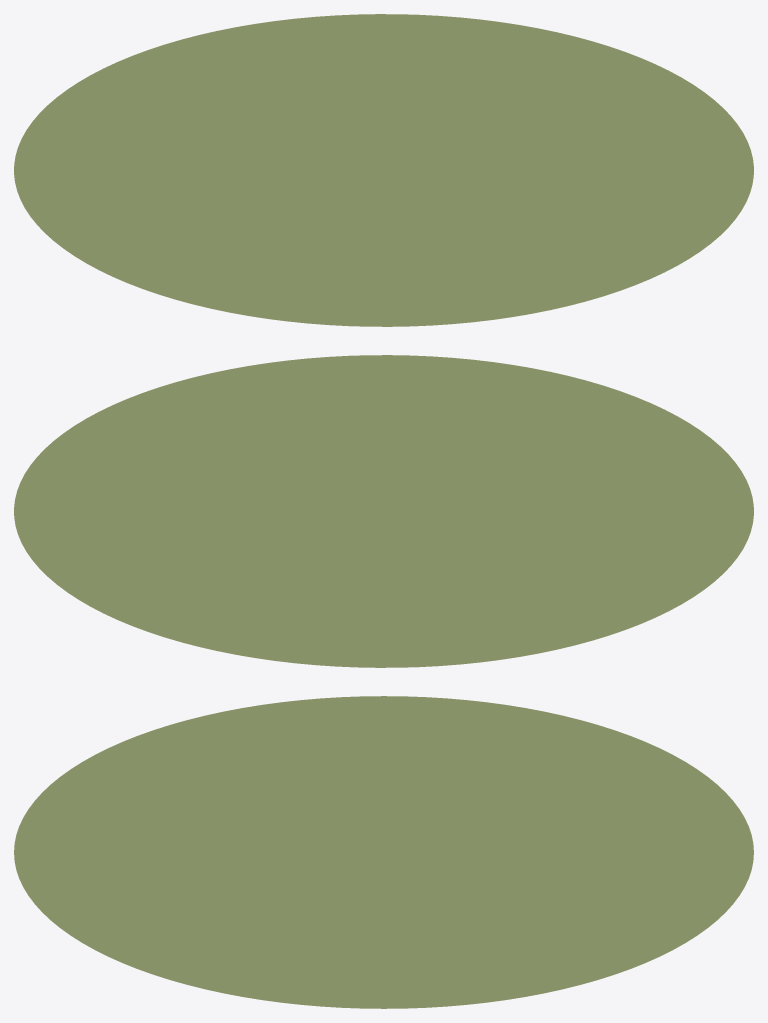
The model's file is Arena_Platform.fbx.
The picture shows the model from 3 angles, top to bottom: view 1: azimuth 30°, elevation 25°; view 2: azimuth 150°, elevation 25°; view 3: azimuth 270°, elevation 25°; orthographic projection.
Parts seen in each view (by area): view 1: Platform; view 2: Platform; view 3: Platform.
Part boxes in pixels (box(x1,y1,x2,y2)): Platform: box(14, 14, 753, 326); Platform: box(14, 355, 753, 667); Platform: box(14, 696, 753, 1008).
Bounding box in the file's own units: 9966 × 0.00184 × 9966.
